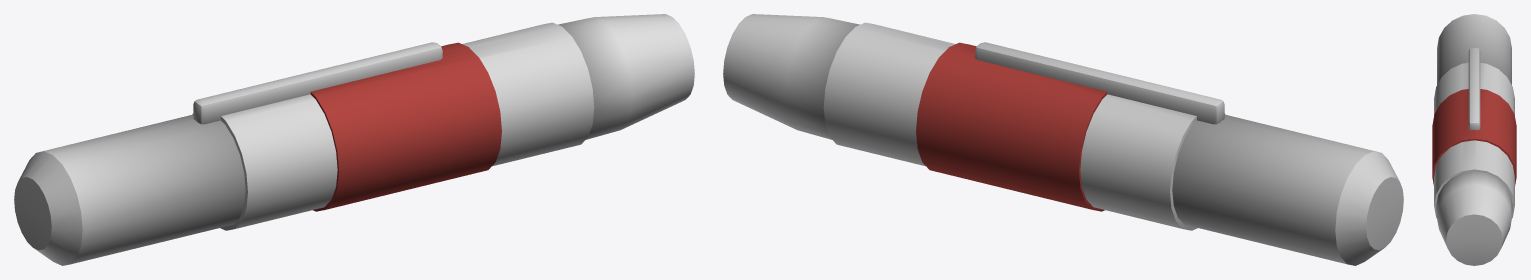
File: medical-injector.glb
3 views of the same model, side by side, from view 1: azimuth 30°, elevation 25°; view 2: azimuth 150°, elevation 25°; view 3: azimuth 270°, elevation 25° (orthographic). The views are drawn at different scales.
Parts seen in each view (by area): view 1: Body_lod0; view 2: Body_lod0; view 3: Body_lod0.
Part boxes in pixels (<box>): Body_lod0: <box>14,14,694,265</box>; Body_lod0: <box>723,14,1403,265</box>; Body_lod0: <box>1432,14,1516,265</box>.
Size of what is drawn, in the model's own units: 0.157 by 0.0309 by 0.0282.
